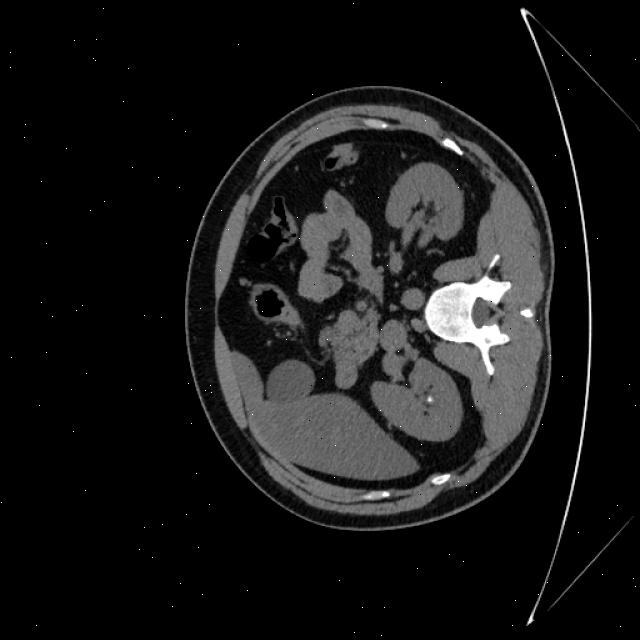kidneystone: (421, 394, 436, 405)
